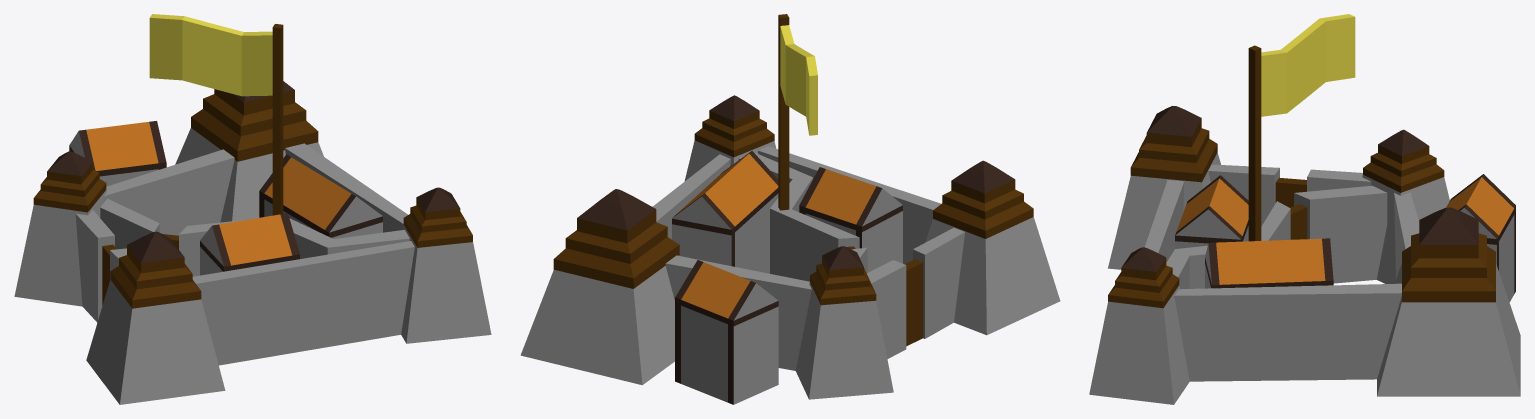
File: SM_TileP3Base.fbx
The picture shows the model from 3 angles, left to right: view 1: azimuth 30°, elevation 25°; view 2: azimuth 150°, elevation 25°; view 3: azimuth 270°, elevation 25°; orthographic projection. The views are drawn at different scales.
Parts seen in each view (by area): view 1: TileP3Base, TileP3BaseFlag; view 2: TileP3Base, TileP3BaseFlag; view 3: TileP3Base, TileP3BaseFlag.
Boxes of the visible parts, bbox=[...] form: TileP3Base: bbox=[14, 81, 491, 404]; TileP3BaseFlag: bbox=[149, 14, 283, 215]; TileP3Base: bbox=[520, 95, 1060, 404]; TileP3BaseFlag: bbox=[778, 14, 817, 210]; TileP3Base: bbox=[1089, 106, 1520, 404]; TileP3BaseFlag: bbox=[1248, 14, 1355, 241].
Bounding box in the file's own units: 401 × 289 × 401.
